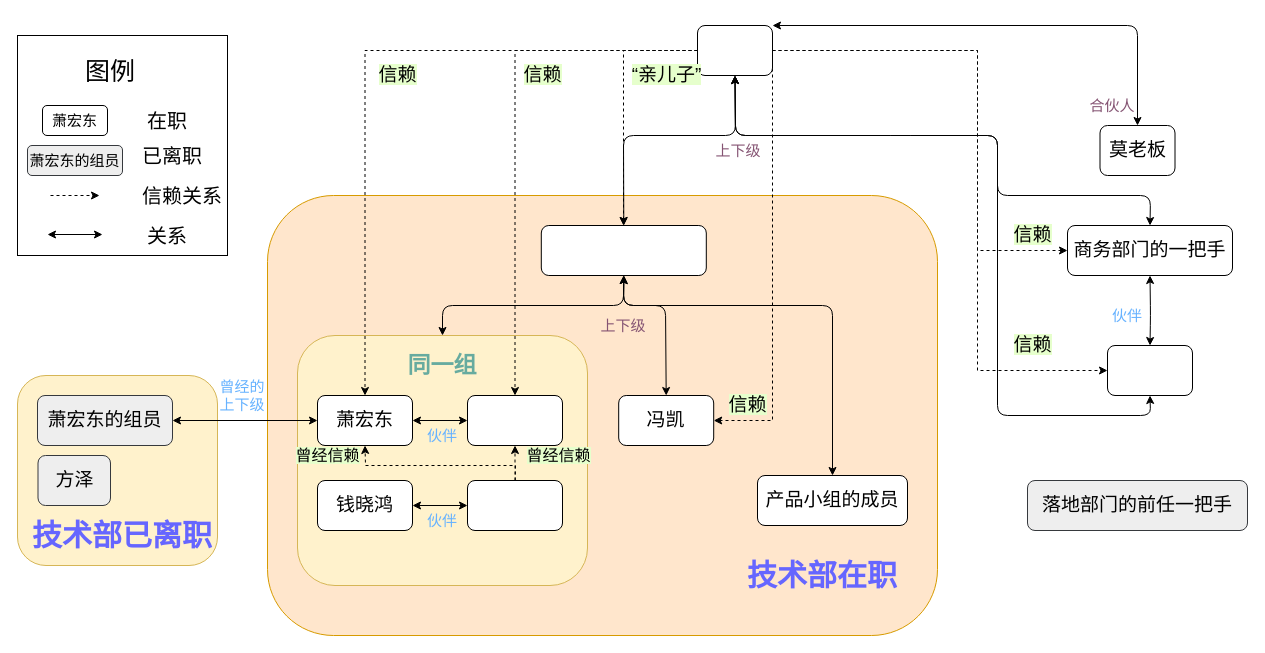
Image size: 1265x653. Some labels were removed from this diagram. The centre of each missing label's shape, as x and y in pixels:
“我”: point 514,505
孟国安: point 1149,370
技术部门的一把手: point 623,250
秦冬晨: point 514,420
老板: point 734,50
